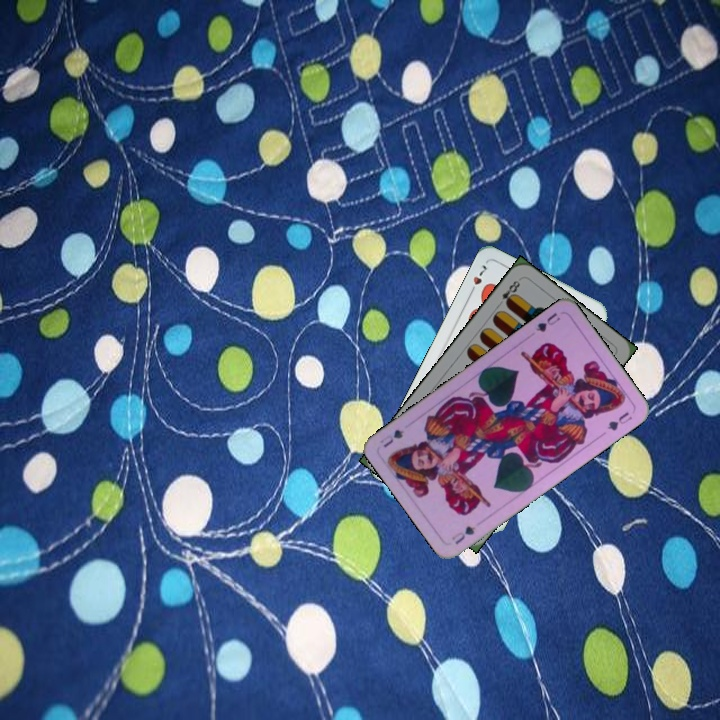E8: (493, 276, 523, 309)
GU: (532, 308, 563, 335), (447, 521, 478, 547)
H7: (466, 260, 490, 297)
